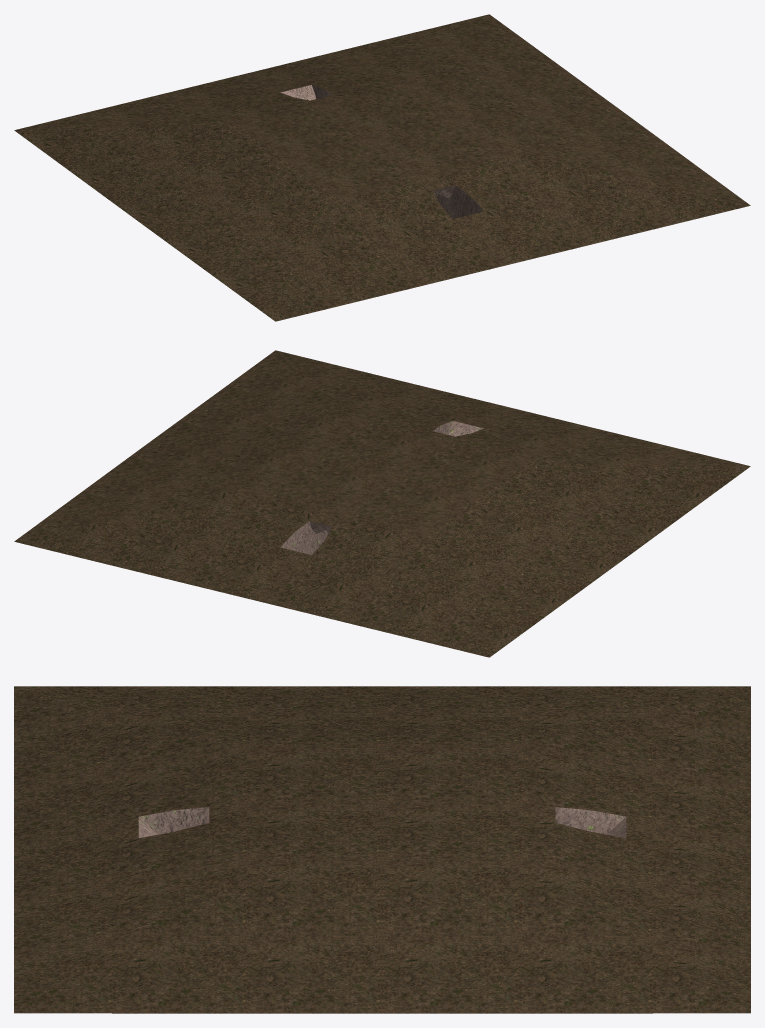
File: SM_Forest_Block00.fbx
3 renders of one model, top to bottom at view 1: azimuth 30°, elevation 25°; view 2: azimuth 150°, elevation 25°; view 3: azimuth 270°, elevation 25°, orthographic. The views are drawn at different scales.
Visible parts, largest first — view 1: SM_Forest_Block00; view 2: SM_Forest_Block00; view 3: SM_Forest_Block00.
Boxes of the visible parts, <box> form: SM_Forest_Block00: <box>14,14,750,321</box>; SM_Forest_Block00: <box>14,350,750,657</box>; SM_Forest_Block00: <box>14,686,750,1013</box>.
Bounding box in the file's own units: 4747 × 478 × 4518.
